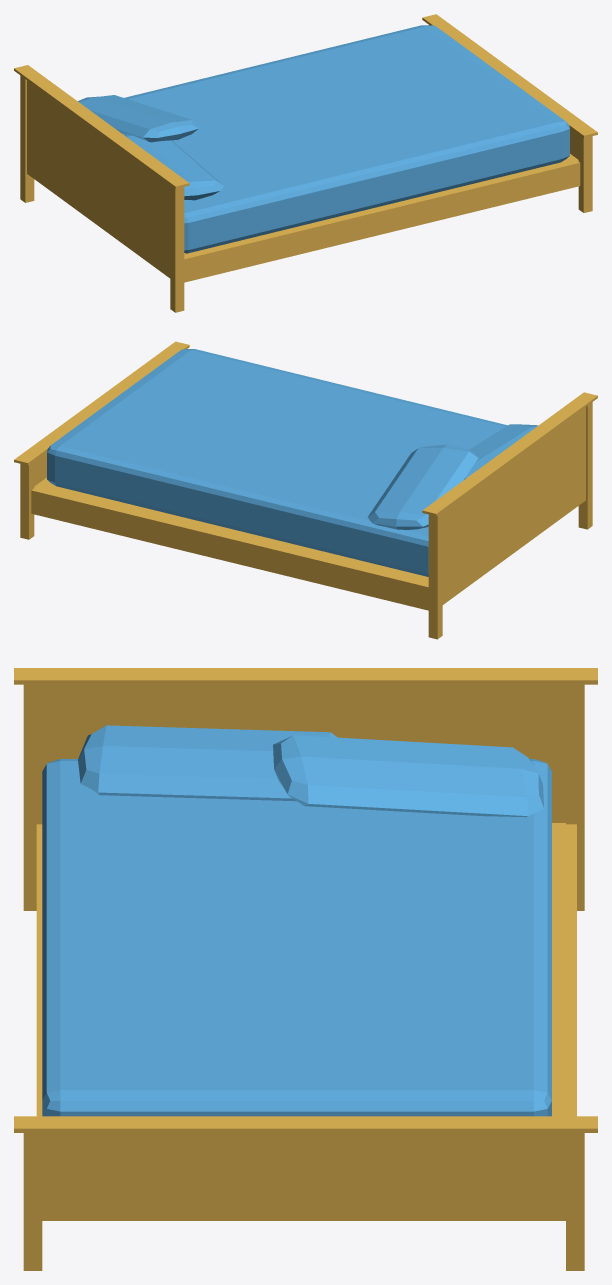
Rendered from bed.gltf.
3 views of the same model, one above another, from view 1: azimuth 30°, elevation 25°; view 2: azimuth 150°, elevation 25°; view 3: azimuth 270°, elevation 25° (orthographic). The views are drawn at different scales.
Visible parts, largest first — view 1: Cube.001, Cube, Simple Queensize Bed; view 2: Cube.001, Cube, Simple Queensize Bed; view 3: Cube.001, Cube, Simple Queensize Bed.
Boxes of the visible parts, x1,y1,x2,y2 form: Cube.001: (122,25,569,253); Cube: (14,14,597,312); Simple Queensize Bed: (78,95,223,200); Cube.001: (47,349,507,576); Cube: (14,341,597,639); Simple Queensize Bed: (367,424,538,529); Cube.001: (42,759,551,1116); Cube: (14,668,597,1270); Simple Queensize Bed: (78,725,543,817).
Size of the model in its own units: 9.66 by 2.81 by 6.4.
